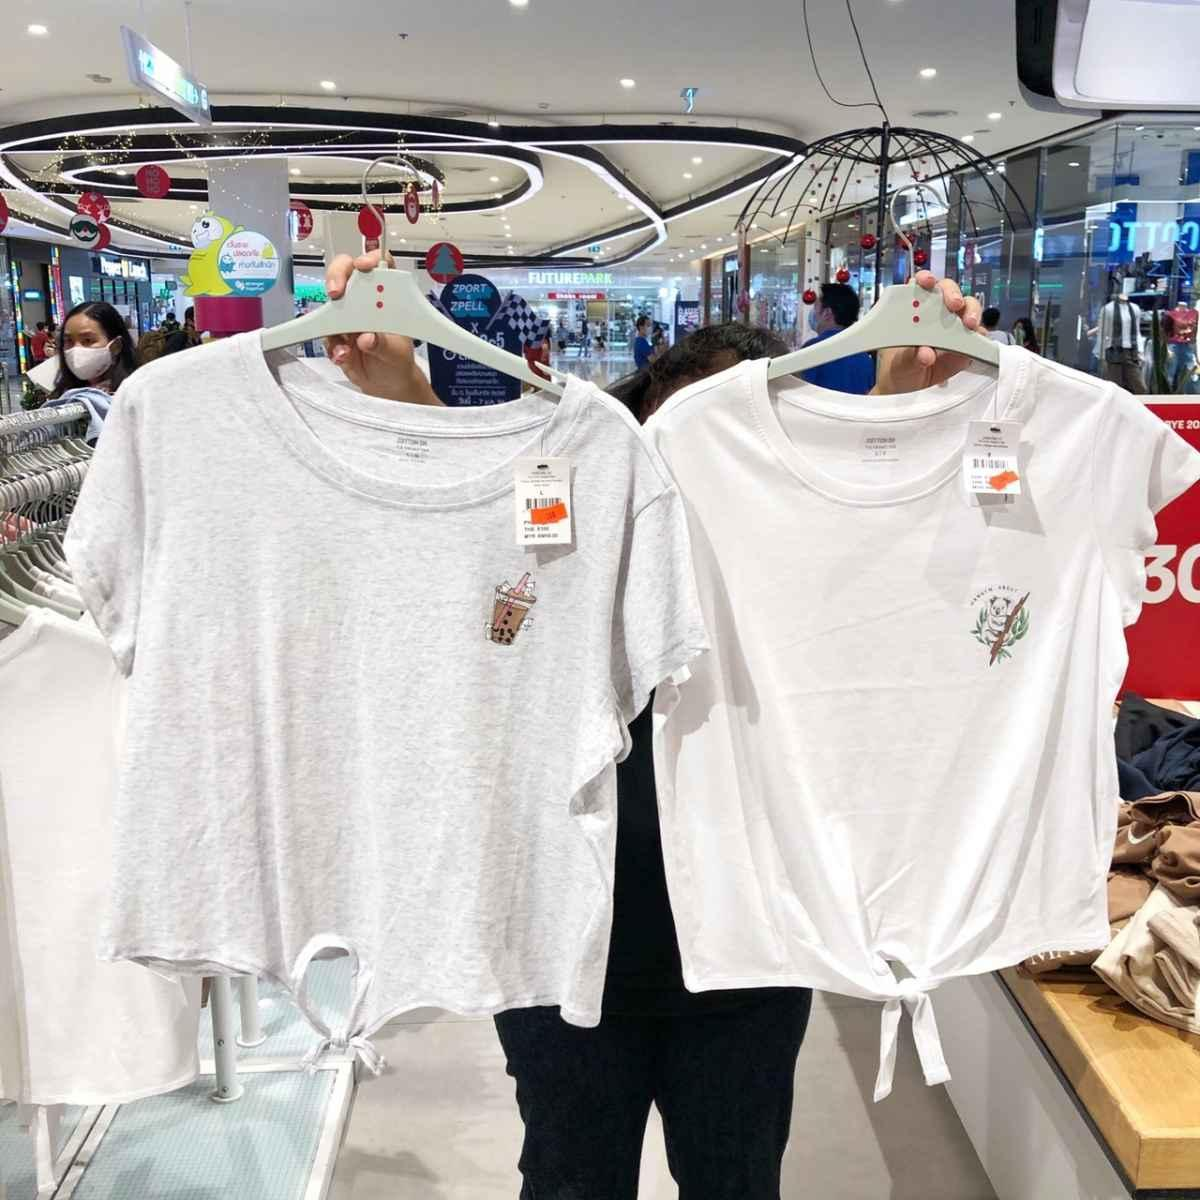Tshirt: (69, 318, 647, 1016), (629, 351, 1160, 1019)
